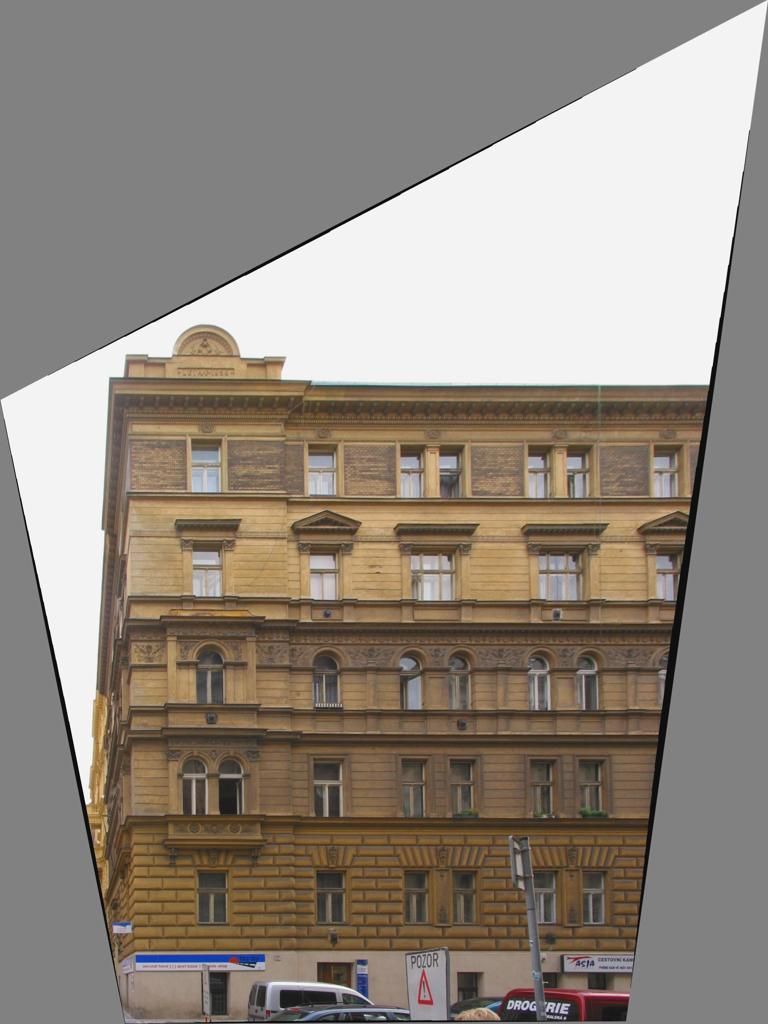window: (411, 548, 459, 601), (539, 548, 587, 601), (196, 644, 227, 704), (313, 759, 345, 817), (313, 650, 344, 709), (181, 755, 210, 815), (197, 870, 229, 924), (579, 759, 608, 818), (402, 758, 430, 818), (192, 439, 223, 493), (654, 444, 685, 498), (530, 759, 558, 818), (450, 759, 478, 818), (218, 756, 246, 815), (528, 650, 555, 711), (577, 650, 604, 711), (309, 444, 340, 497), (316, 871, 347, 924), (193, 543, 223, 597), (400, 650, 427, 710), (449, 650, 476, 710), (658, 546, 688, 600), (310, 547, 340, 599), (530, 871, 559, 924), (567, 445, 594, 498), (453, 871, 480, 924), (440, 445, 466, 498), (529, 445, 555, 498), (582, 871, 608, 924), (401, 445, 426, 498), (405, 871, 430, 924), (202, 972, 230, 1016), (458, 973, 483, 1020)
